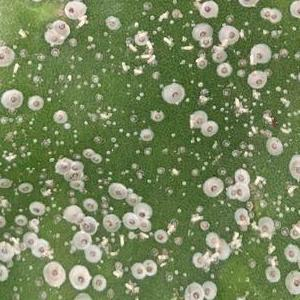Femea: (71, 267, 87, 288), (45, 264, 60, 281), (2, 93, 17, 106), (110, 184, 123, 199), (167, 86, 179, 101), (289, 272, 299, 290), (66, 3, 79, 16), (205, 181, 218, 194), (29, 203, 43, 215), (204, 286, 216, 299), (54, 20, 68, 31), (253, 46, 264, 60), (45, 31, 60, 41), (0, 243, 10, 258), (137, 206, 150, 217), (222, 27, 235, 38), (251, 76, 262, 89), (235, 184, 246, 197), (188, 286, 199, 299), (35, 243, 46, 256), (134, 264, 144, 278), (194, 27, 209, 36), (285, 246, 294, 261), (138, 220, 149, 232), (214, 50, 226, 61), (201, 124, 214, 134), (202, 2, 212, 15), (144, 261, 153, 275), (23, 235, 34, 246), (78, 236, 88, 248), (124, 216, 136, 226), (237, 169, 245, 183), (30, 98, 42, 107), (268, 141, 277, 153), (261, 222, 270, 234), (54, 113, 65, 122), (228, 187, 237, 198), (268, 269, 277, 280), (236, 212, 247, 221), (87, 251, 99, 259), (128, 195, 137, 205), (194, 114, 203, 124), (290, 229, 299, 239), (155, 230, 163, 241), (95, 278, 102, 290), (219, 65, 228, 74), (200, 37, 209, 46), (92, 155, 100, 164), (84, 202, 92, 210), (196, 59, 204, 67), (16, 216, 23, 225), (84, 150, 91, 157)
Linfa: (67, 52, 83, 67), (168, 165, 182, 177), (238, 105, 251, 115), (187, 135, 200, 144), (42, 135, 51, 148), (89, 72, 98, 82), (94, 179, 103, 189), (134, 91, 145, 99), (129, 161, 138, 169), (188, 244, 196, 253), (44, 87, 55, 93), (85, 33, 93, 41), (175, 206, 183, 214), (130, 129, 138, 137), (65, 72, 72, 80), (134, 149, 142, 156), (75, 71, 82, 79), (19, 143, 26, 151), (71, 98, 78, 105), (242, 121, 249, 128), (246, 130, 253, 137), (169, 131, 176, 138), (46, 155, 53, 162), (73, 82, 81, 88), (105, 103, 111, 111), (179, 180, 188, 185), (24, 150, 33, 155), (116, 126, 123, 132), (124, 130, 131, 136), (253, 122, 256, 136), (125, 82, 131, 89), (71, 139, 79, 144), (41, 125, 49, 130), (81, 80, 87, 86), (104, 149, 110, 155), (53, 130, 59, 136), (83, 120, 90, 125), (45, 96, 52, 101), (103, 156, 110, 161), (26, 59, 33, 64), (223, 101, 229, 106), (109, 54, 115, 59), (26, 73, 31, 79), (17, 207, 22, 213), (201, 165, 206, 171), (211, 103, 215, 110), (219, 106, 223, 113), (71, 128, 78, 132), (32, 138, 37, 143), (72, 134, 78, 138), (108, 170, 112, 176)
Macho: (116, 234, 127, 248), (161, 33, 172, 46), (119, 61, 129, 73), (189, 214, 203, 222), (125, 42, 135, 53), (165, 9, 172, 22), (75, 27, 88, 34), (291, 222, 298, 235), (131, 67, 144, 74), (177, 44, 195, 49), (144, 39, 153, 48), (153, 53, 159, 66), (139, 52, 151, 58), (12, 63, 19, 72)
